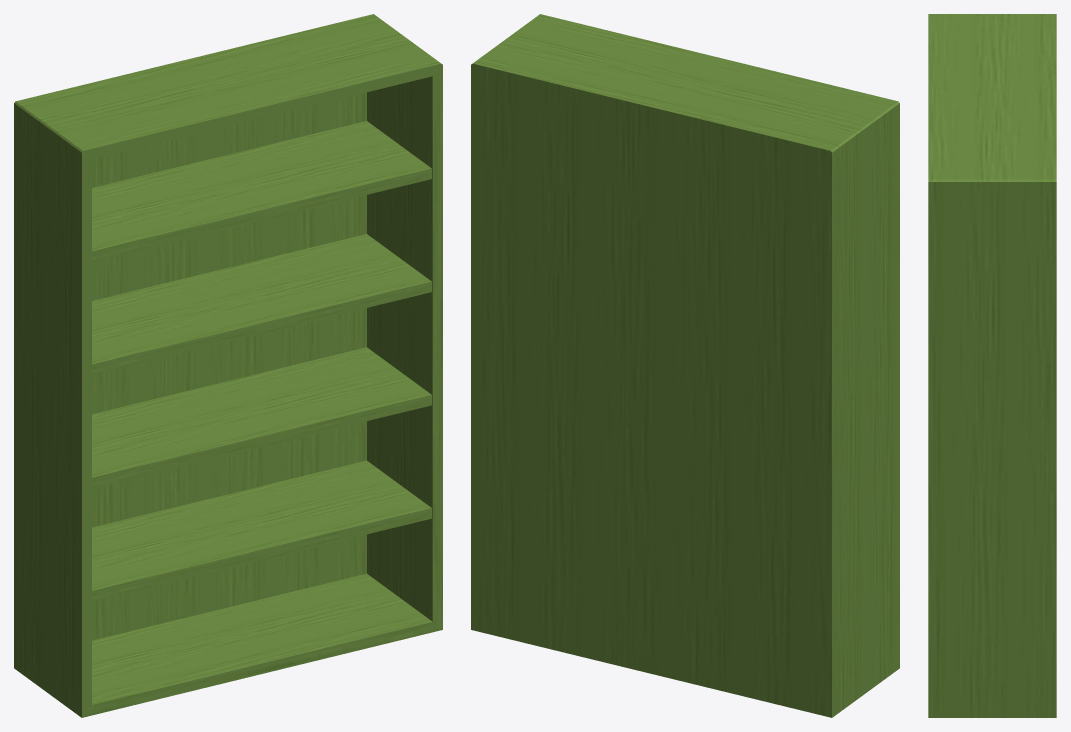
The model's file is Bookshelf_F.FBX.
3 views of the same model, side by side, from view 1: azimuth 30°, elevation 25°; view 2: azimuth 150°, elevation 25°; view 3: azimuth 270°, elevation 25° (orthographic). The views are drawn at different scales.
Visible parts, largest first — view 1: Bookshelf; view 2: Bookshelf; view 3: Bookshelf.
Part boxes in pixels (<box>): Bookshelf: <box>14,14,442,717</box>; Bookshelf: <box>471,14,899,717</box>; Bookshelf: <box>928,14,1056,717</box>.
Bounding box in the file's own units: 200 × 300 × 65.
